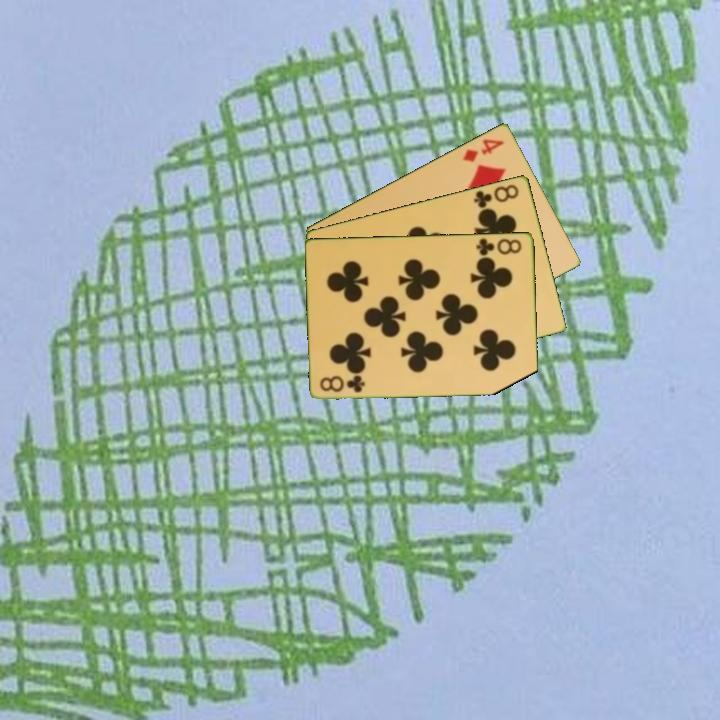4d: (459, 135, 507, 165)
8c: (470, 180, 522, 211), (473, 234, 525, 258), (317, 372, 368, 395)
